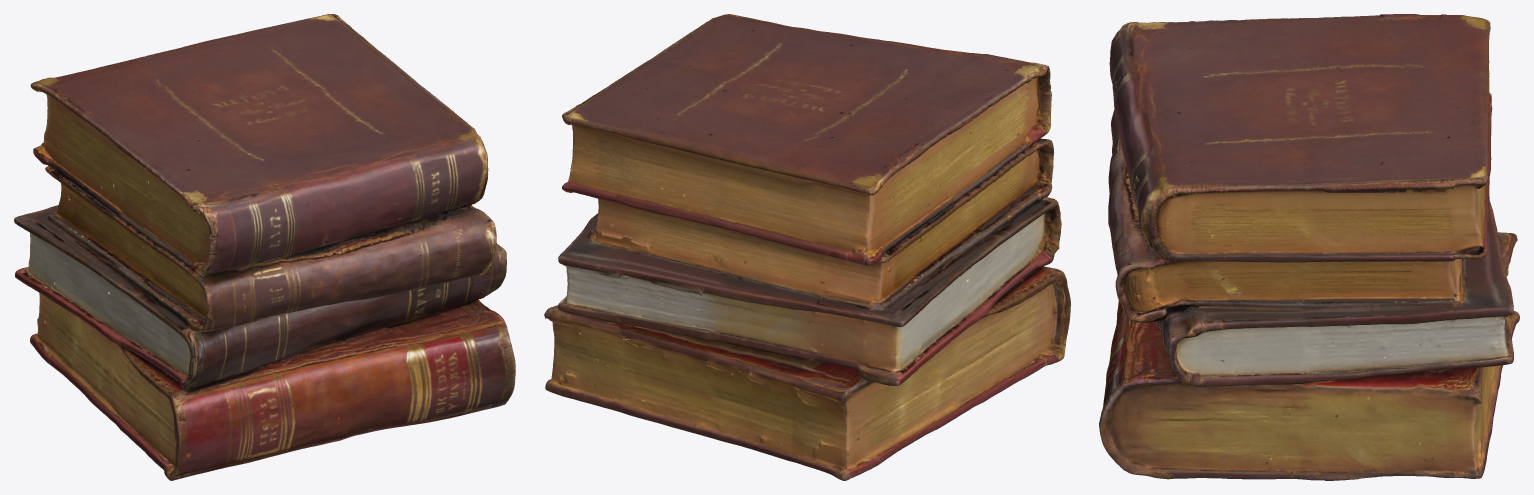
The model's file is StackOfVintageBooks.glb.
The picture shows the model from 3 angles, left to right: view 1: azimuth 30°, elevation 25°; view 2: azimuth 150°, elevation 25°; view 3: azimuth 270°, elevation 25°; orthographic projection. The views are drawn at different scales.
Size of the model in its own units: 1.99 by 1.55 by 1.93.
Materials: 1 (1 with a texture image).
